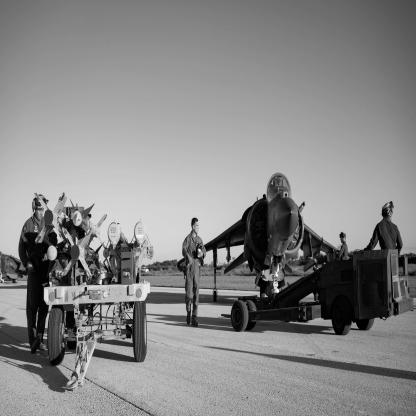AV8B: (177, 173, 353, 303), (50, 244, 118, 287), (1, 252, 29, 284)
